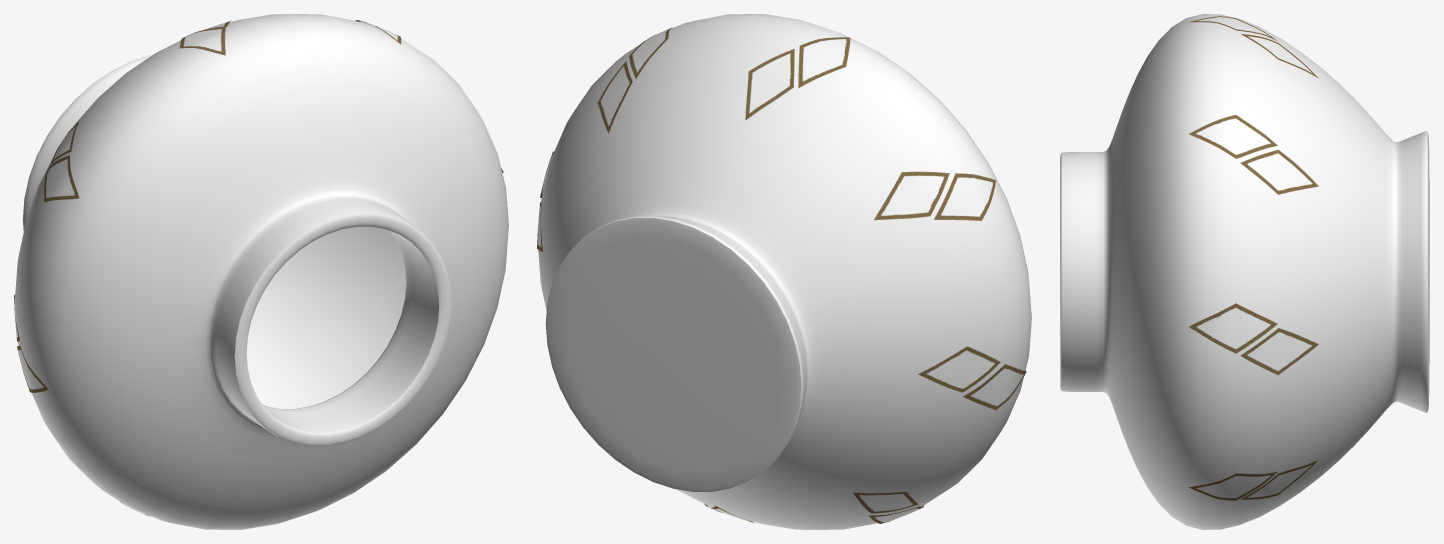
The picture shows the model from 3 angles, left to right: view 1: azimuth 30°, elevation 25°; view 2: azimuth 150°, elevation 25°; view 3: azimuth 270°, elevation 25°; orthographic projection. The views are drawn at different scales.
Parts seen in each view (by area): view 1: mk5, mk5-2; view 2: mk5, mk5-2; view 3: mk5, mk5-2.
Part boxes in pixels (box(x1,y1,x2,y2)): mk5: box(15, 14, 508, 529); mk5-2: box(14, 20, 503, 516); mk5: box(538, 14, 1031, 529); mk5-2: box(537, 27, 1026, 523); mk5: box(1060, 14, 1429, 529); mk5-2: box(1188, 16, 1318, 500).
Bounding box in the file's own units: 62.19 × 62.19 × 44.52.
2 materials, 2 textured.
